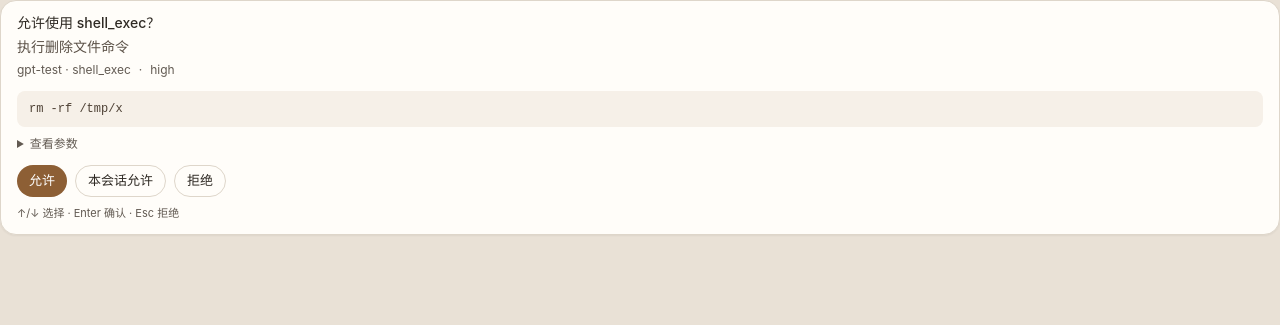
Test: ApprovalPrompt › 反馈模式下按返回回到选项菜单
Click the option "拒绝".
click(200, 181)  # box [174,165,226,197]
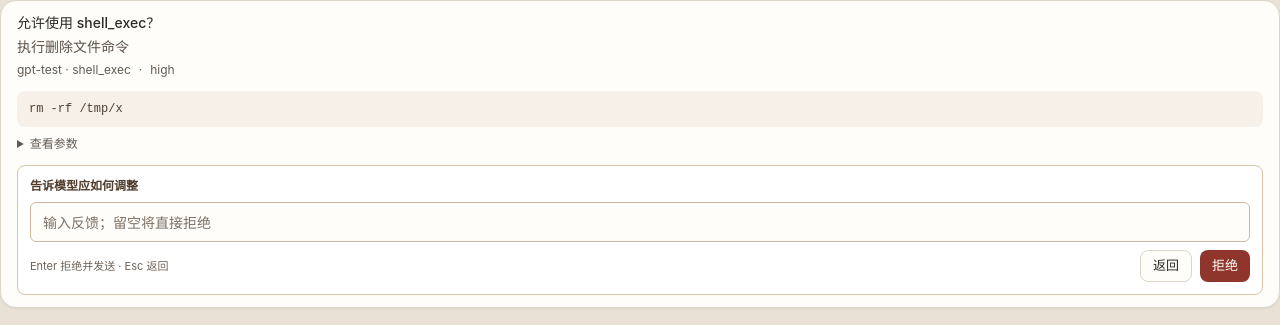
Check: the field with placeholder "输入反馈；留空将直接拒绝" is shown, box [30,202,1250,242]
Click the button "返回".
click(1166, 266)  # box [1140,250,1192,282]
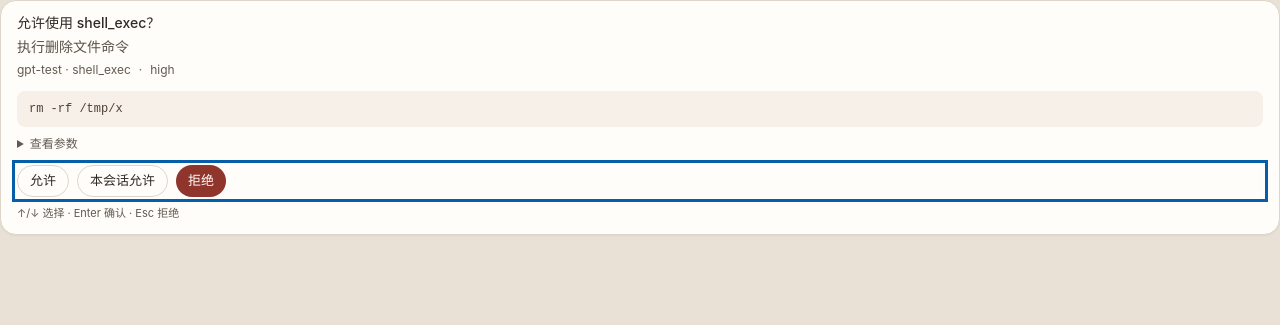
Check: the option "允许" is shown, box [17,165,69,197]
